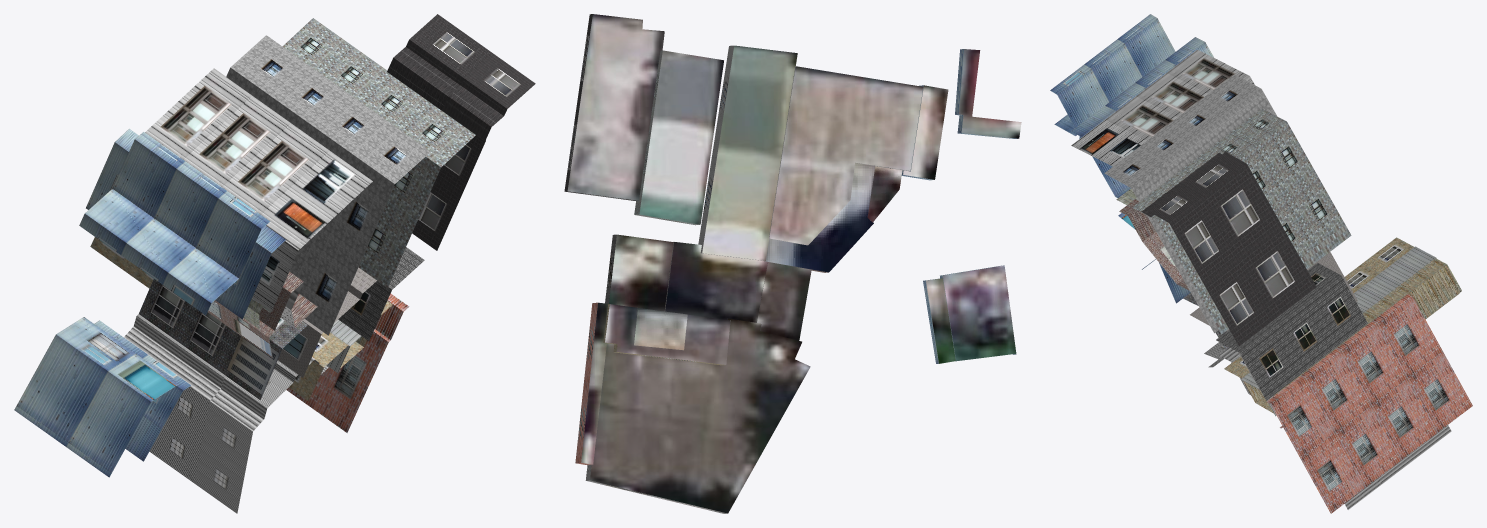
3 views of the same model, side by side, from view 1: azimuth 30°, elevation 25°; view 2: azimuth 150°, elevation 25°; view 3: azimuth 270°, elevation 25° (orthographic). The views are drawn at different scales.
Size of the model in its own units: 34.71 by 33.11 by 31.45.
Materials: 59 (59 with a texture image).
